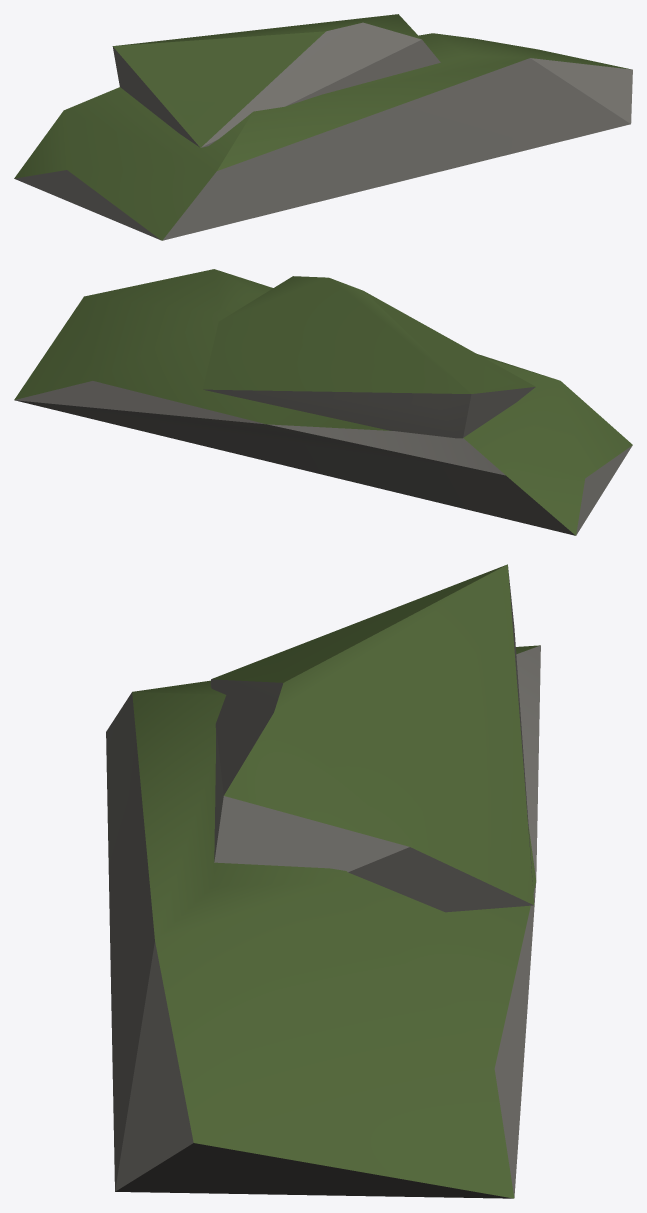
Rendered from RockLipLong.fbx.
3 views of the same model, one above another, from view 1: azimuth 30°, elevation 25°; view 2: azimuth 150°, elevation 25°; view 3: azimuth 270°, elevation 25° (orthographic). The views are drawn at different scales.
Visible parts, largest first — view 1: RockLipLong; view 2: RockLipLong; view 3: RockLipLong.
Boxes of the visible parts, x1=… form: RockLipLong: x1=14, y1=14, x2=632, y2=240; RockLipLong: x1=14, y1=269, x2=632, y2=535; RockLipLong: x1=106, y1=564, x2=540, y2=1198.
Bounding box in the file's own units: 3.42 × 0.7754 × 1.19.
